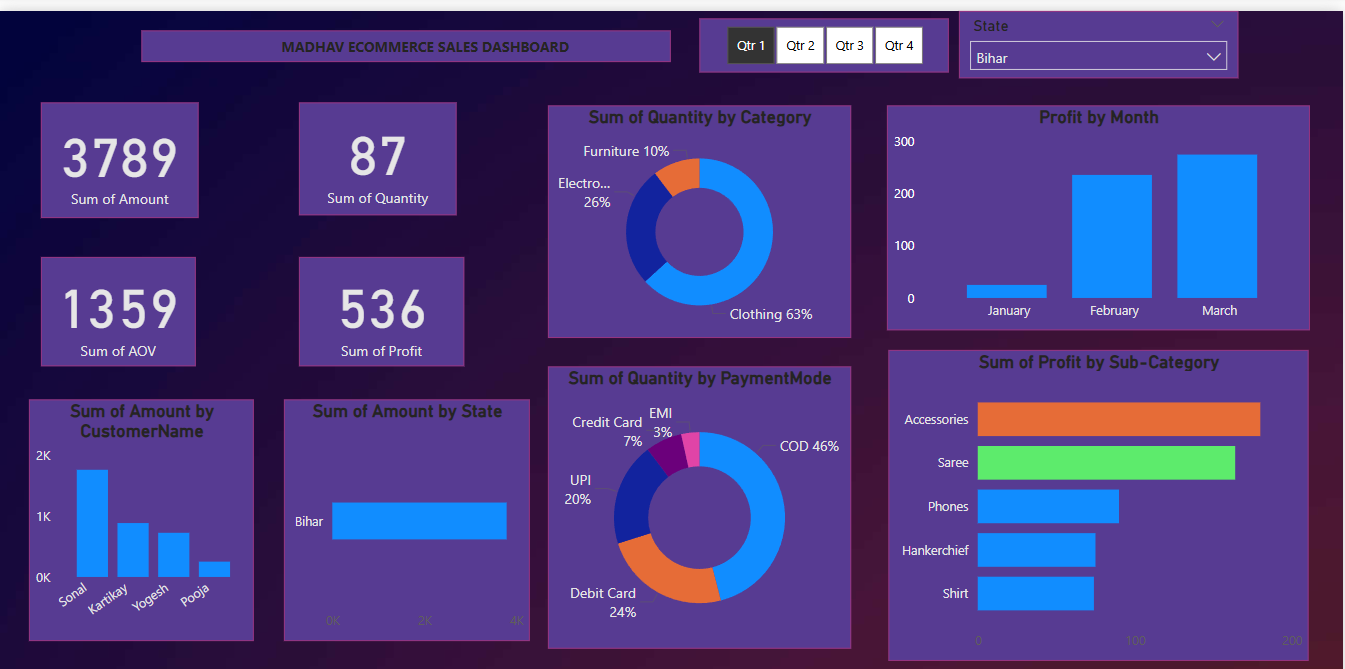

This screenshot's page, from the dashboard's own definition file:
{"tool":"powerbi","page":{"name":"Page 1","canvas":[1280,720],"ordinal":0},"visuals":[{"type":"textbox","box":[242.5,17.5,340,35],"z":0},{"type":"columnChart","title":"Profit by Month","fields":{"Y":["Details.Profit"],"Category":["Orders.Order Date.Variation.Date Hierarchy.Month"]},"box":[765.7,60,402.9,214.3],"z":1000},{"type":"barChart","fields":{"Category":["Details.Sub-Category"],"Y":["Details.Profit"]},"box":[768.6,304.3,400,295.7],"z":2000},{"type":"donutChart","fields":{"Category":["Details.Category"],"Y":["Details.Quantity"]},"box":[462.9,60,288.6,221.4],"z":3000},{"type":"donutChart","fields":{"Category":["Details.PaymentMode"],"Y":["Details.Quantity"]},"box":[462.9,304.3,288.6,268.6],"z":4000},{"type":"card","fields":{"Values":["Details.Amount"]},"box":[92.9,64.3,150,110],"z":5000},{"type":"card","fields":{"Values":["Details.Quantity"]},"box":[287.1,64.3,150,107.1],"z":6000},{"type":"card","fields":{"Values":["Details.Profit"]},"box":[287.1,200,150,104.3],"z":7000},{"type":"card","fields":{"Values":["Details.AOV"]},"box":[95.7,200,147.1,104.3],"z":8000},{"type":"clusteredBarChart","fields":{"Category":["Orders.State"],"Y":["Details.Amount"]},"box":[218.6,322.9,234.3,230],"z":9000},{"type":"columnChart","fields":{"Category":["Orders.CustomerName"],"Y":["Details.Amount"]},"box":[10,338.6,198.6,200],"z":10000},{"type":"slicer","fields":{"Values":["Orders.Order Date.Variation.Date Hierarchy.Quarter"]},"box":[27.1,572.9,237.1,51.4],"z":10001},{"type":"slicer","fields":{"Values":["Orders.State"]},"box":[298.6,598.6,254.3,78.6],"z":10002}]}

Visuals, with their boxes on the page's 1280x720 design canvas (x1, y1, x2, y2). These are canvas units, not pixel positions in the 1345x669 screenshot, which may show the page scaled, cropped or inside an application window:
textbox: (x1=242, y1=18, x2=582, y2=52)
"Profit by Month" columnChart: (x1=766, y1=60, x2=1169, y2=274)
barChart - Details.Sub-Category x Details.Profit: (x1=769, y1=304, x2=1169, y2=600)
donutChart - Details.Category x Details.Quantity: (x1=463, y1=60, x2=752, y2=281)
donutChart - Details.PaymentMode x Details.Quantity: (x1=463, y1=304, x2=752, y2=573)
card - Details.Amount: (x1=93, y1=64, x2=243, y2=174)
card - Details.Quantity: (x1=287, y1=64, x2=437, y2=171)
card - Details.Profit: (x1=287, y1=200, x2=437, y2=304)
card - Details.AOV: (x1=96, y1=200, x2=243, y2=304)
clusteredBarChart - Orders.State x Details.Amount: (x1=219, y1=323, x2=453, y2=553)
columnChart - Orders.CustomerName x Details.Amount: (x1=10, y1=339, x2=209, y2=539)
slicer - Orders.Order Date.Variation.Date Hierarchy.Quarter: (x1=27, y1=573, x2=264, y2=624)
slicer - Orders.State: (x1=299, y1=599, x2=553, y2=677)
